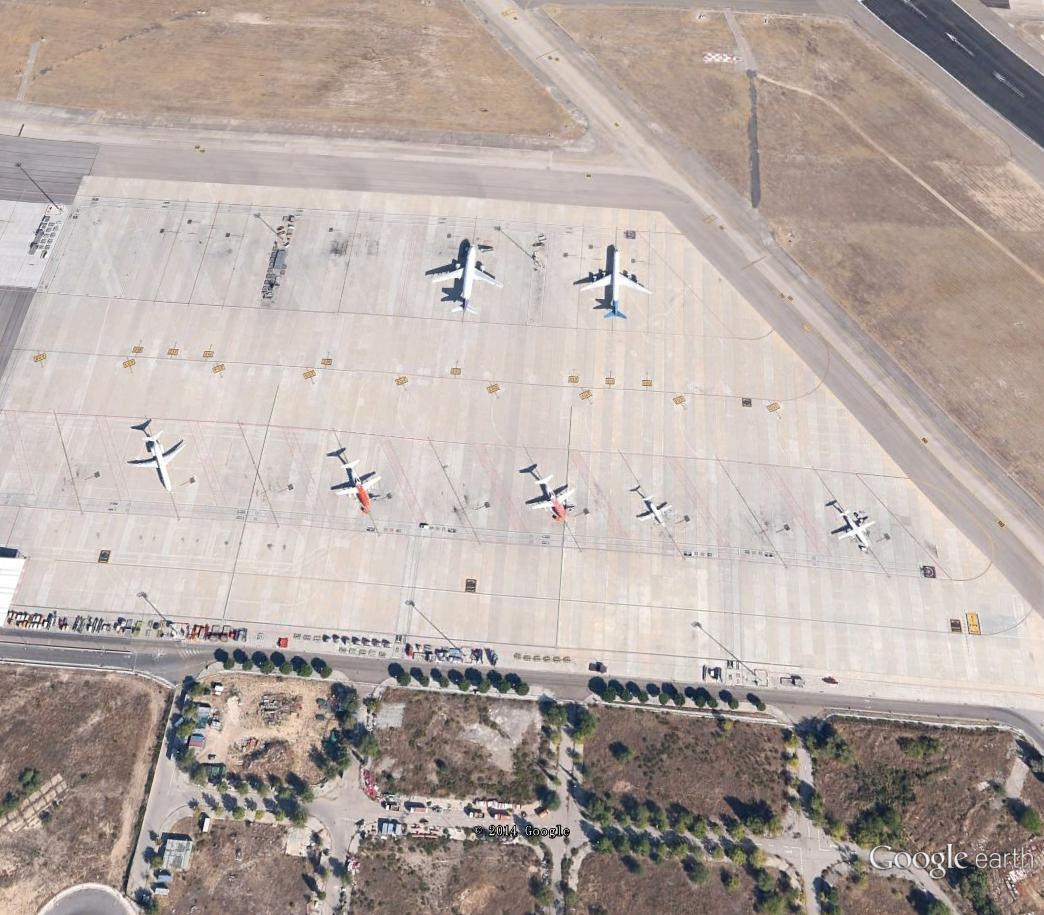aircraft: (577, 244, 661, 327), (429, 240, 507, 318), (121, 423, 189, 496), (328, 453, 388, 519), (520, 474, 579, 531), (829, 502, 877, 552), (631, 495, 673, 532)
